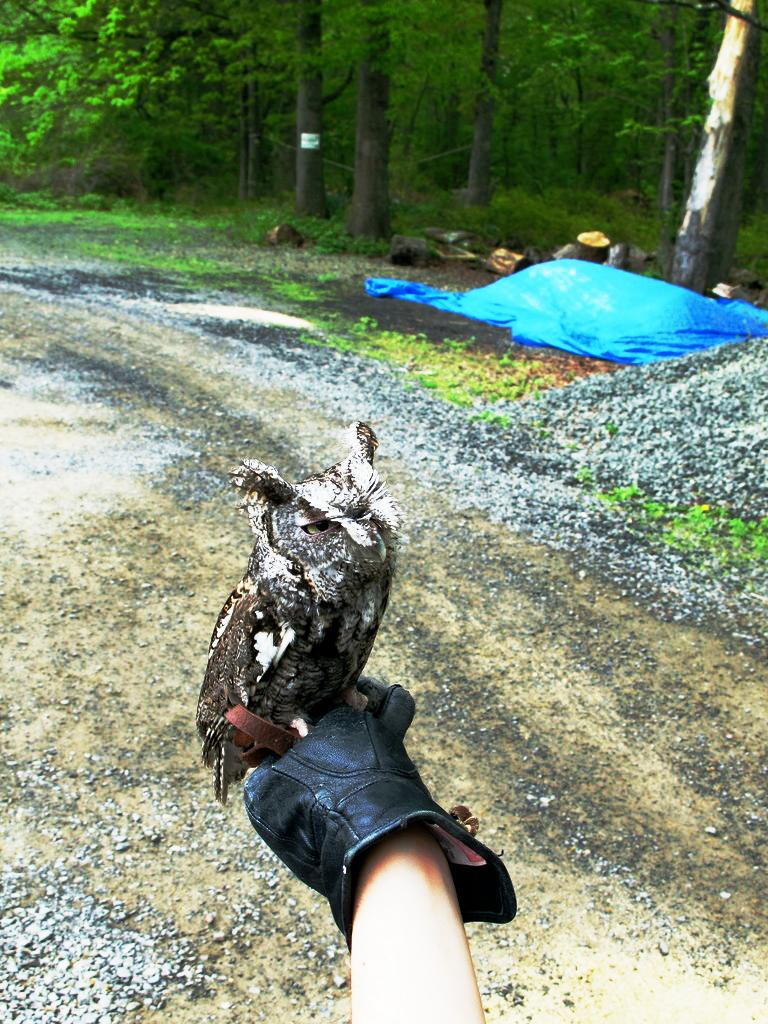Owl: (192, 419, 404, 806)
